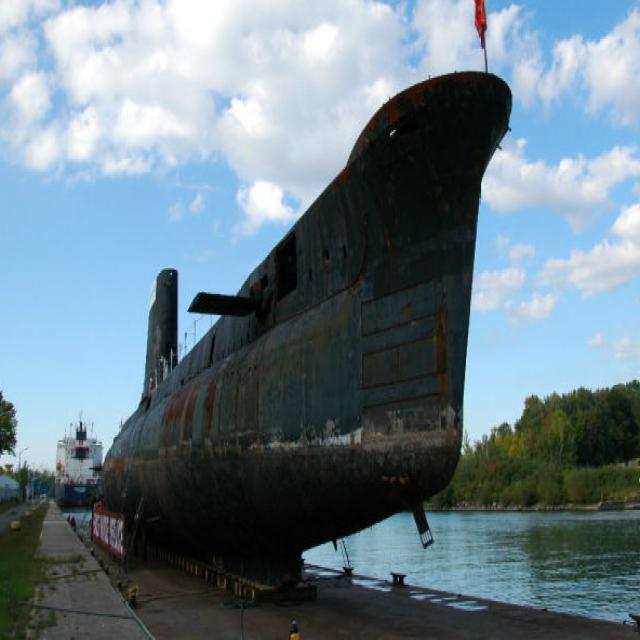submarine: (98, 84, 510, 535)
